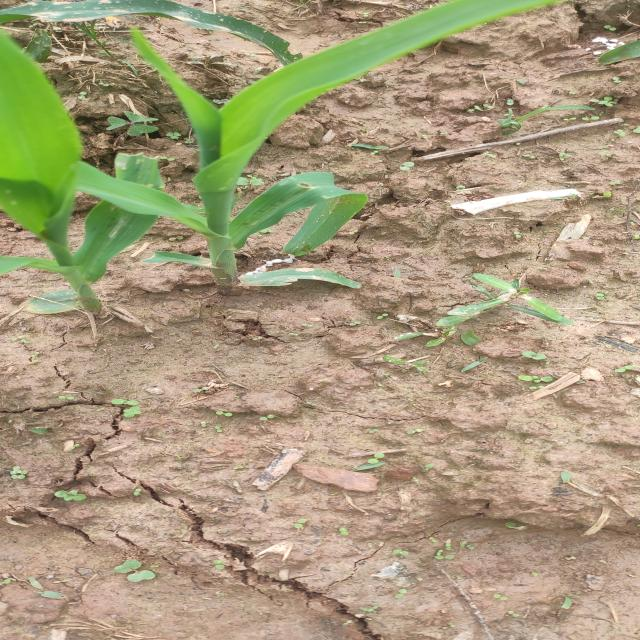maize: (0, 3, 361, 325)
weed: (444, 270, 608, 354)
